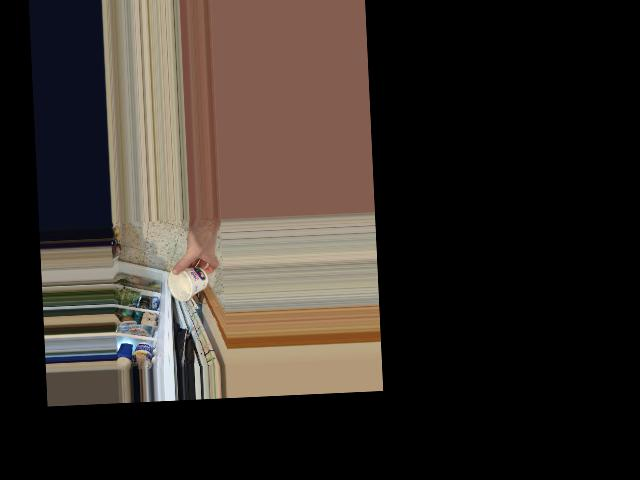cotage: (174, 267, 207, 298)
